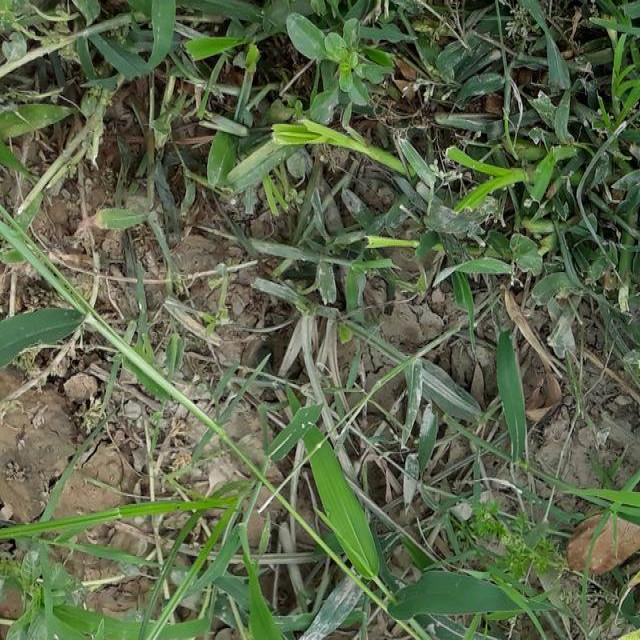weed: (0, 1, 640, 314), (144, 382, 522, 640)
